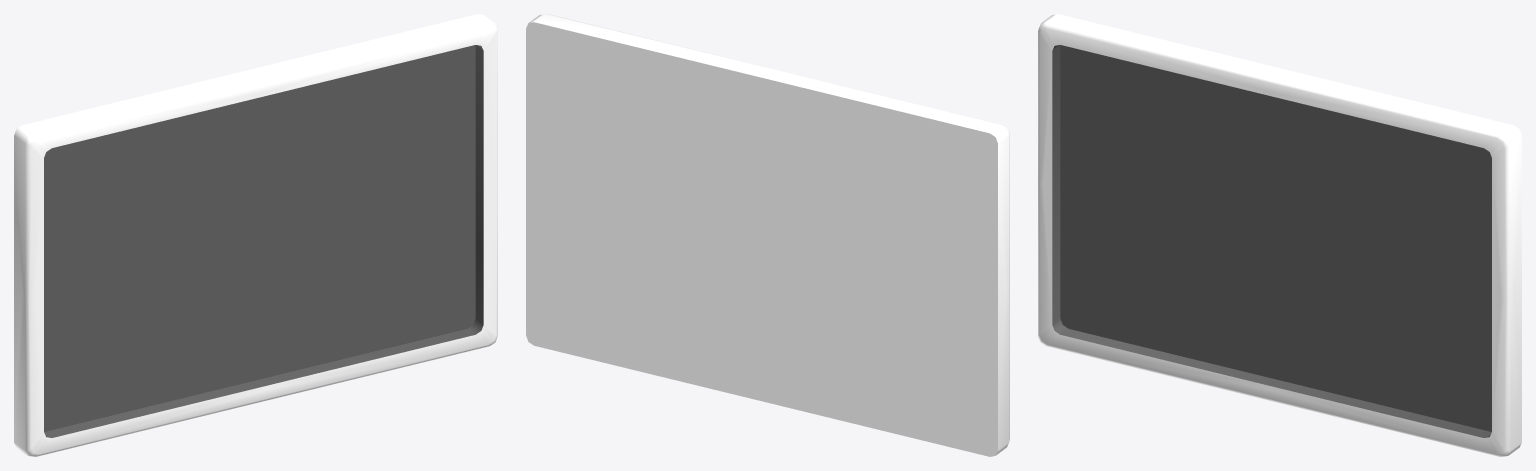
The model's file is workstation_display.glb.
3 renders of one model, left to right at view 1: azimuth 30°, elevation 25°; view 2: azimuth 150°, elevation 25°; view 3: azimuth 330°, elevation 25°, orthographic.
Parts seen in each view (by area): view 1: obj_queue; view 2: obj_queue; view 3: obj_queue.
Part boxes in pixels (x1=…): obj_queue: x1=14, y1=14, x2=497, y2=456; obj_queue: x1=526, y1=14, x2=1009, y2=456; obj_queue: x1=1038, y1=14, x2=1521, y2=456.
Size of what is drawn, in the model's own units: 0.9115 by 0.597 by 0.0461.
1 material, 1 textured.
